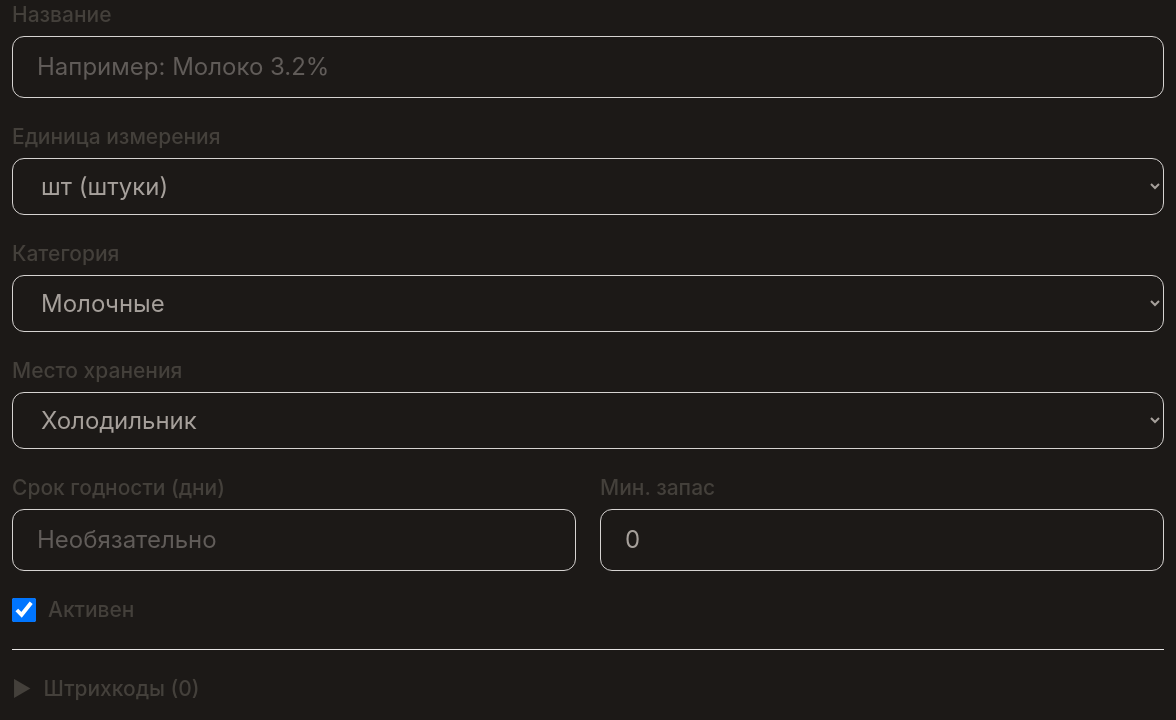
Test case: ProductForm › adds barcode to list
This screenshot has width=1176, height=720.
Expand barcode section
Click the button "▶ Штрихкоды (0)".
click(106, 689)  # box 12,674 -> 200,704
(page scrolled)
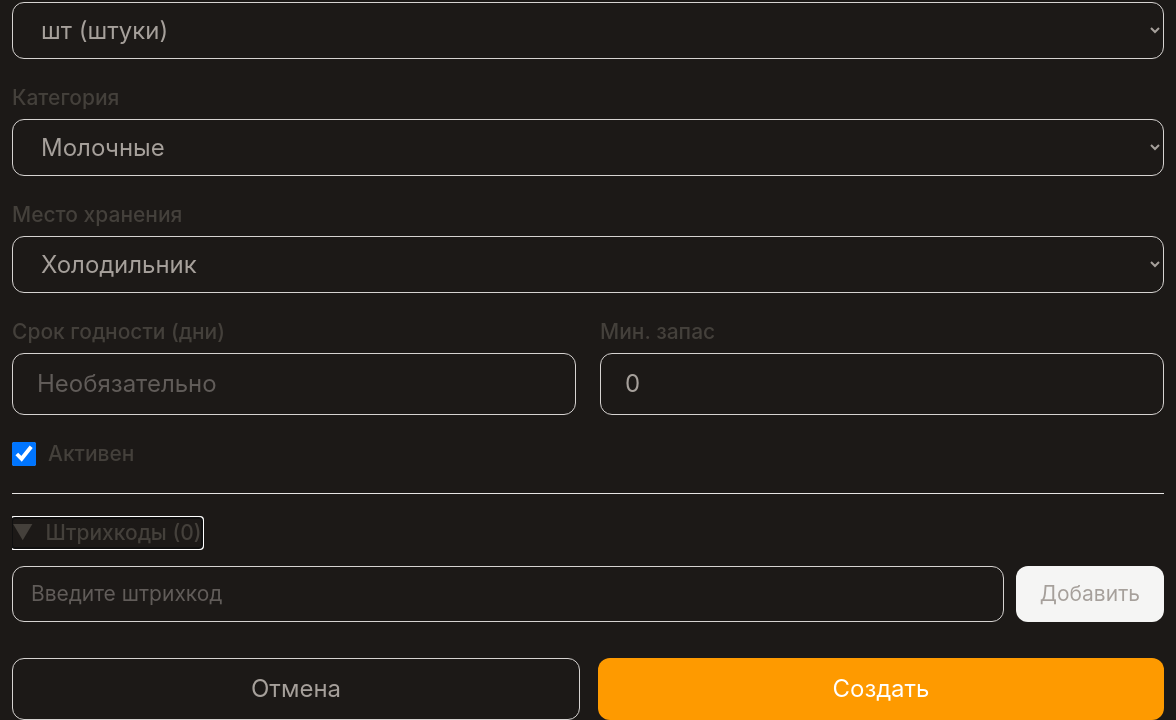
Add barcode
Type "1234567890" into the field with placeholder "Введите штрихкод".
click(508, 594); type("1234567890")  # box 12,566 -> 1004,622
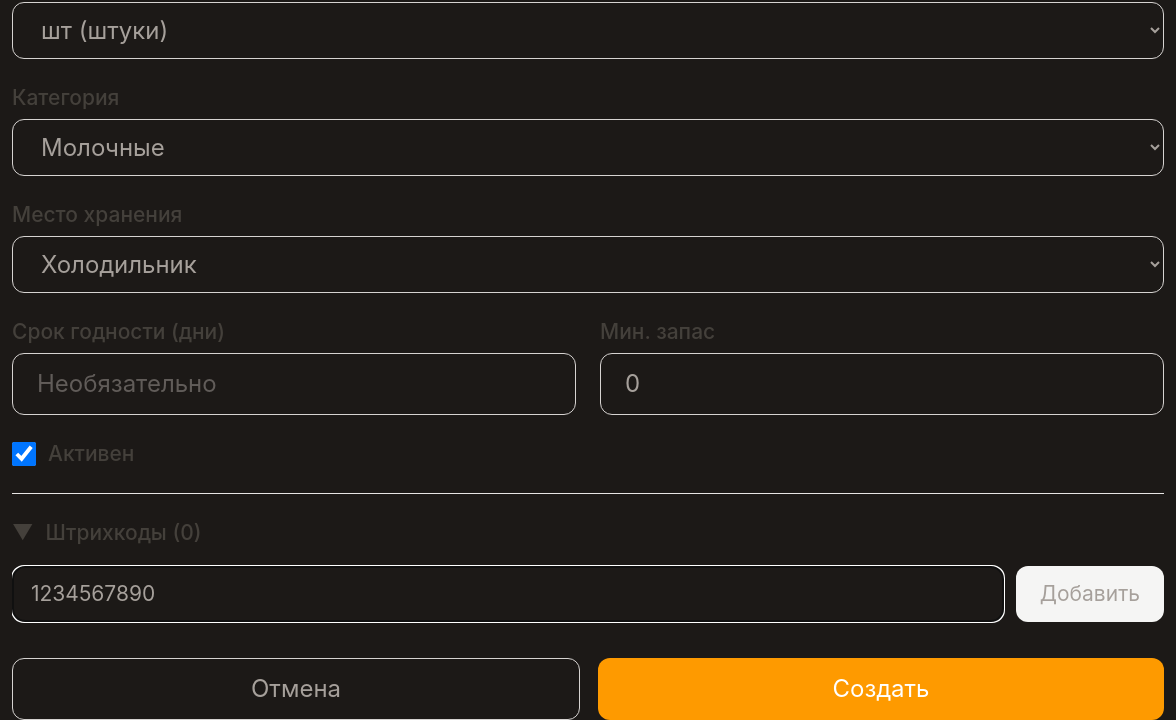
Click the button "Добавить".
click(1090, 594)  # box 1016,566 -> 1164,622
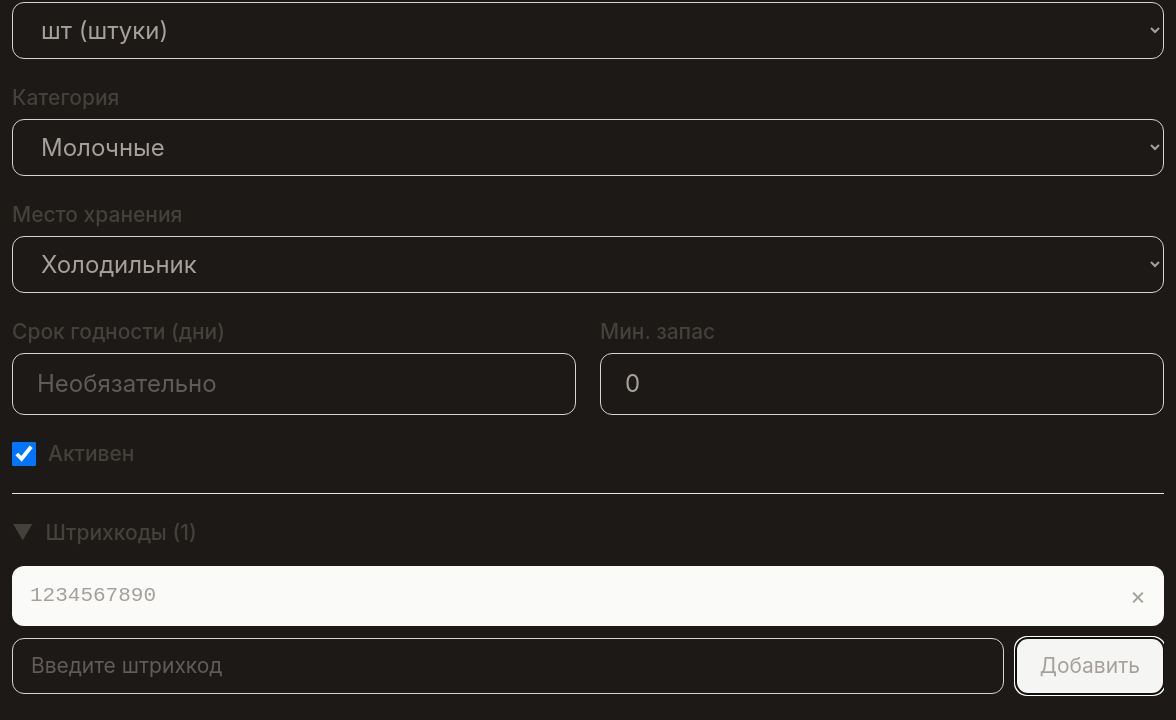
Result: the text "1234567890" is shown at 30,581 -> 156,611
